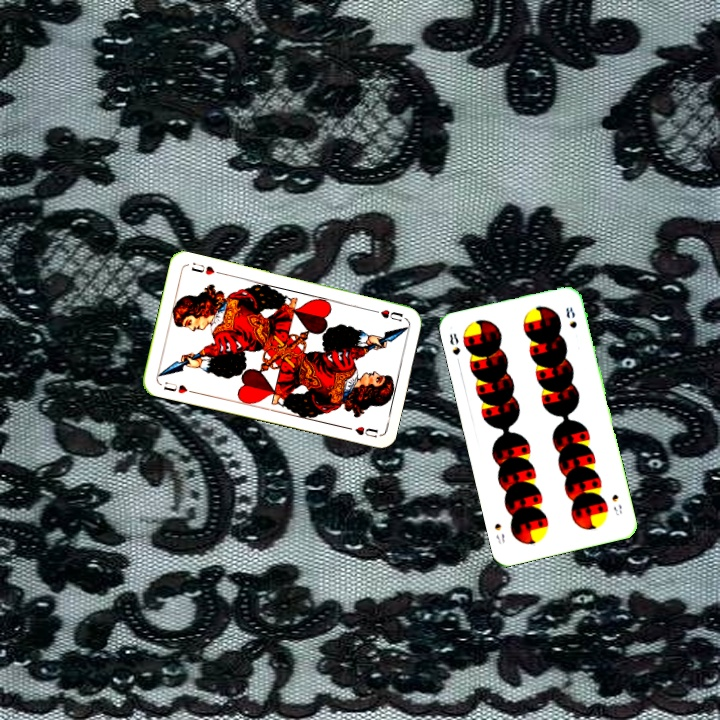HU: (367, 305, 405, 324), (160, 378, 190, 396)
S8: (445, 329, 463, 358), (608, 490, 625, 518)
